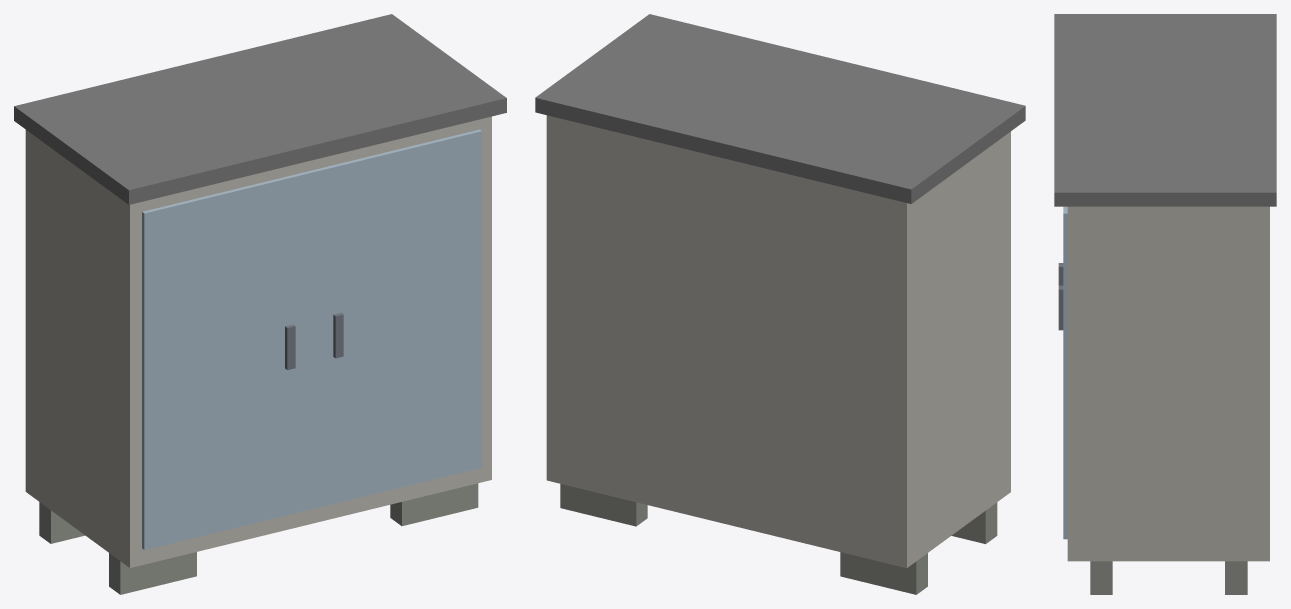
The model's file is scatter-single1.fbx.
3 renders of one model, left to right at view 1: azimuth 30°, elevation 25°; view 2: azimuth 150°, elevation 25°; view 3: azimuth 270°, elevation 25°, orthographic. The views are drawn at different scales.
Parts seen in each view (by area): view 1: a2000/400/scatter-single1; view 2: a2000/400/scatter-single1; view 3: a2000/400/scatter-single1.
Boxes of the visible parts, x1,y1,x2,y2 form: a2000/400/scatter-single1: [14, 14, 506, 594]; a2000/400/scatter-single1: [535, 14, 1025, 594]; a2000/400/scatter-single1: [1054, 14, 1276, 594].
Bounding box in the file's own units: 1.88 × 2 × 0.99.
